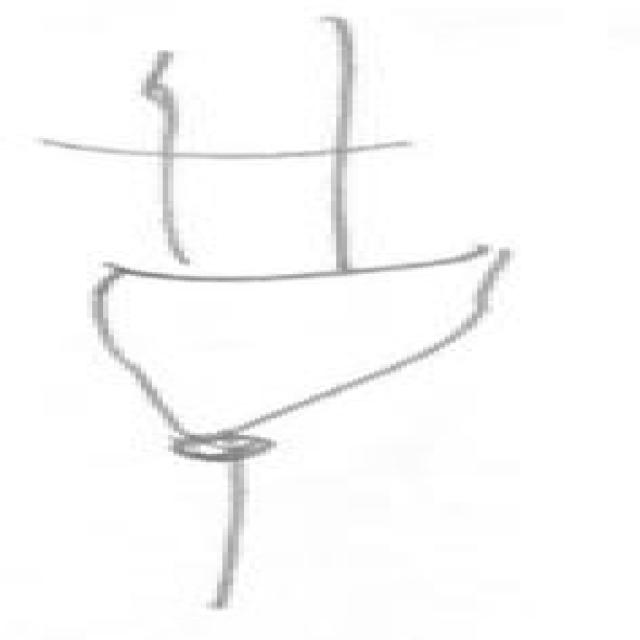XNOR: (26, 123, 575, 491)
